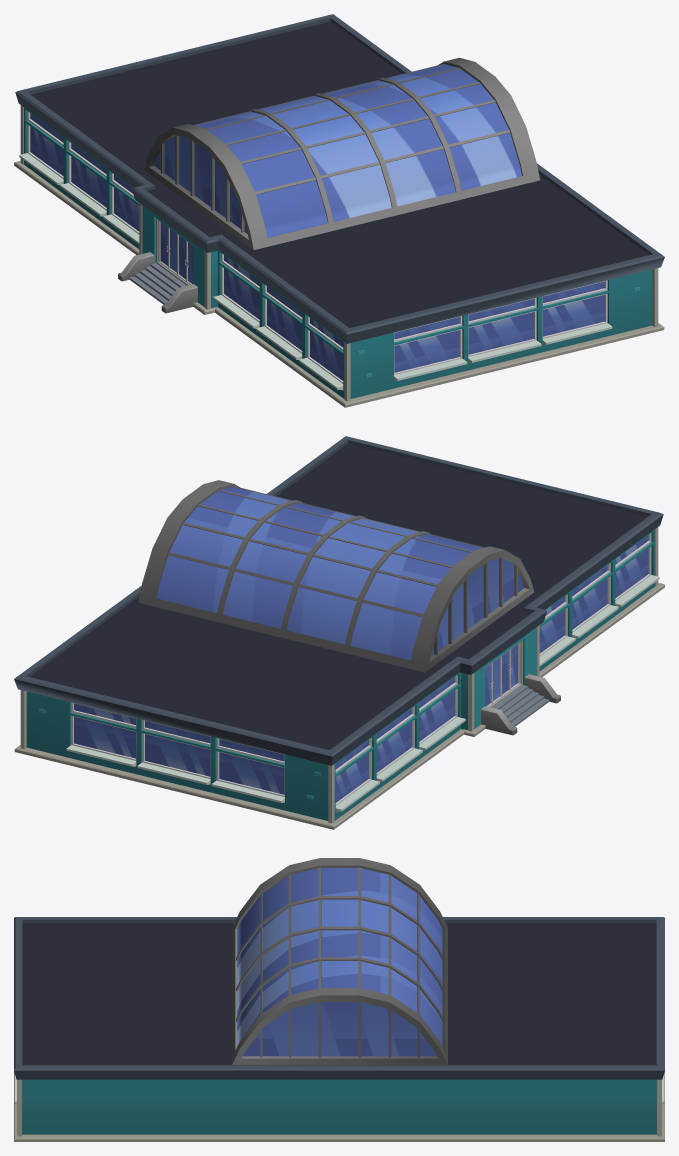
Rendered from Building_16_2_G.fbx.
The picture shows the model from 3 angles, top to bottom: view 1: azimuth 30°, elevation 25°; view 2: azimuth 150°, elevation 25°; view 3: azimuth 270°, elevation 25°; orthographic projection.
Parts seen in each view (by area): view 1: Building_16_2_G; view 2: Building_16_2_G; view 3: Building_16_2_G.
Boxes of the visible parts, x1=… form: Building_16_2_G: x1=14, y1=14, x2=664, y2=407; Building_16_2_G: x1=14, y1=436, x2=664, y2=829; Building_16_2_G: x1=14, y1=858, x2=664, y2=1141.
Size of the model in its own units: 1888 by 718 by 3026.
